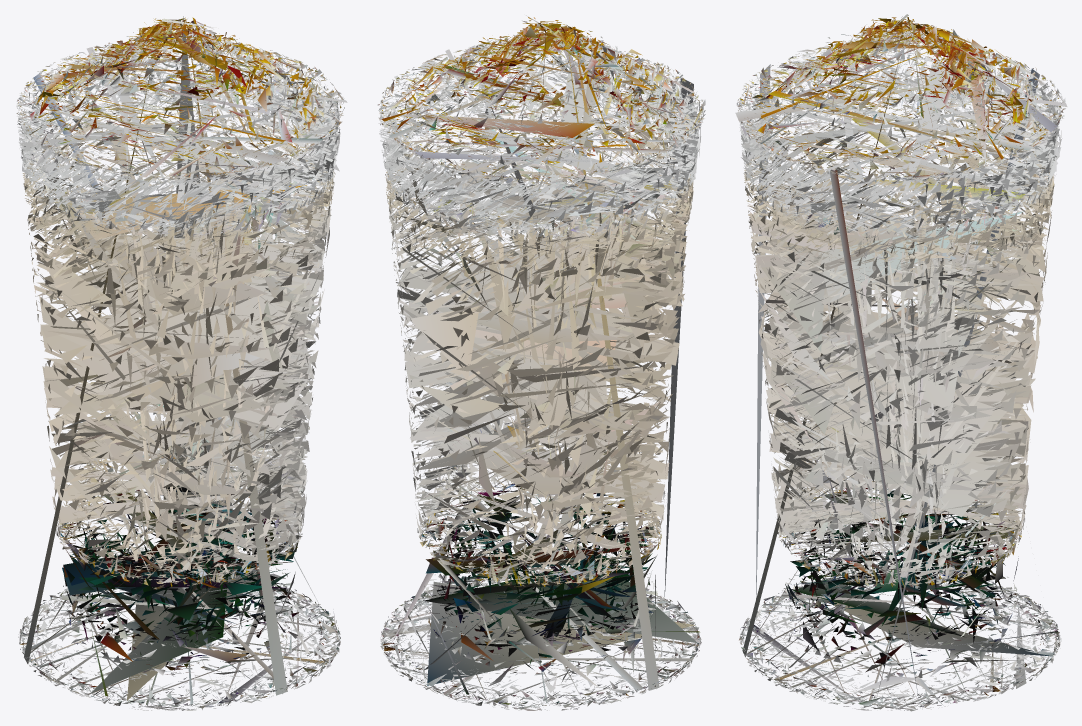
File: moka_with_whipped_cream_and_cinnamon_sprinkled_on_top_in_gla_7322.glb
The picture shows the model from 3 angles, left to right: view 1: azimuth 30°, elevation 25°; view 2: azimuth 150°, elevation 25°; view 3: azimuth 270°, elevation 25°; orthographic projection.
Parts seen in each view (by area): view 1: Ref; view 2: Ref; view 3: Ref.
Boxes of the visible parts, x1,y1,x2,y2 form: Ref: (16,16,347,710); Ref: (377,15,705,710); Ref: (735,14,1067,711).
Bounding box in the file's own units: 0.8665 × 1.81 × 0.8721.
